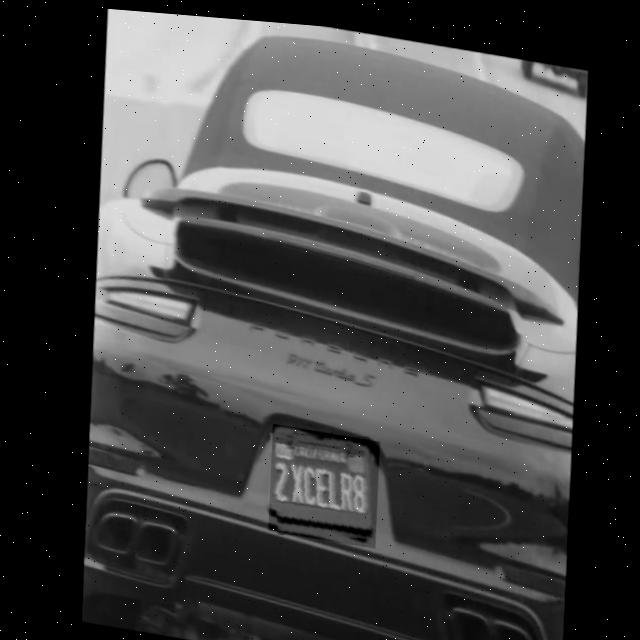LicensePlate: (259, 418, 379, 543)
